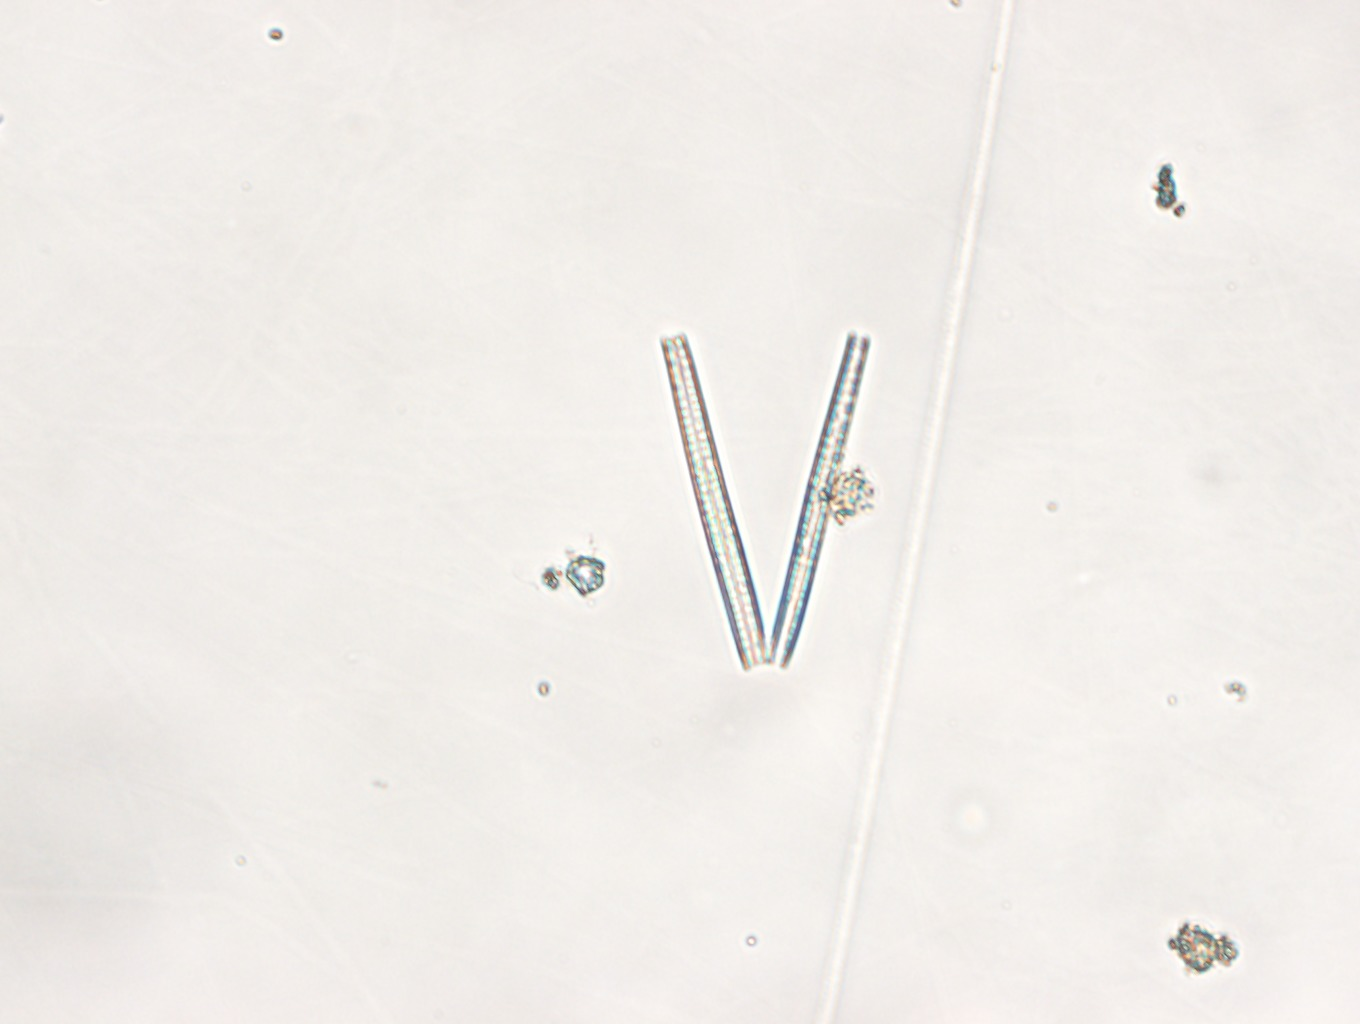thalassionema nitzschioides: (653, 330, 867, 670)
